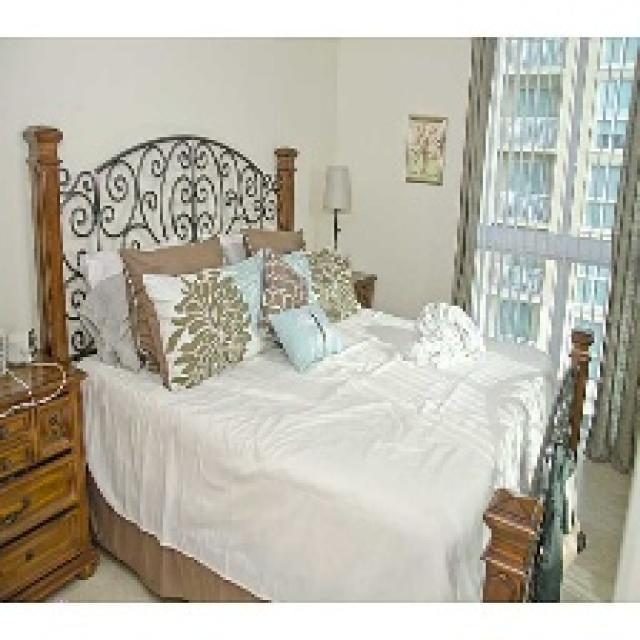Bed: (20, 123, 594, 600)
